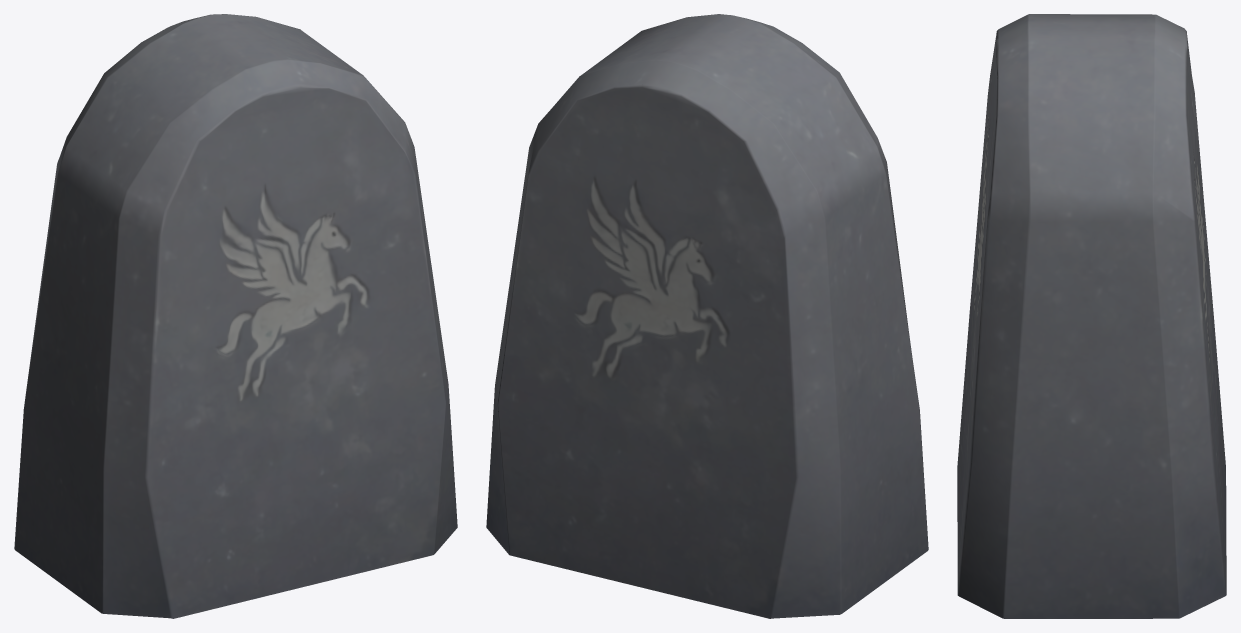
The model's file is Meshy_AI_model_20261128_texture.fbx.
3 views of the same model, side by side, from view 1: azimuth 30°, elevation 25°; view 2: azimuth 150°, elevation 25°; view 3: azimuth 270°, elevation 25° (orthographic).
Parts seen in each view (by area): view 1: geometry_0; view 2: geometry_0; view 3: geometry_0.
Part boxes in pixels (left/top/right/bottom): geometry_0: left=14, top=14, right=457, bottom=618; geometry_0: left=486, top=14, right=928, bottom=618; geometry_0: left=957, top=14, right=1226, bottom=618.
Size of the model in its own units: 74.61 by 99.97 by 48.45.
1 material, 1 textured.
